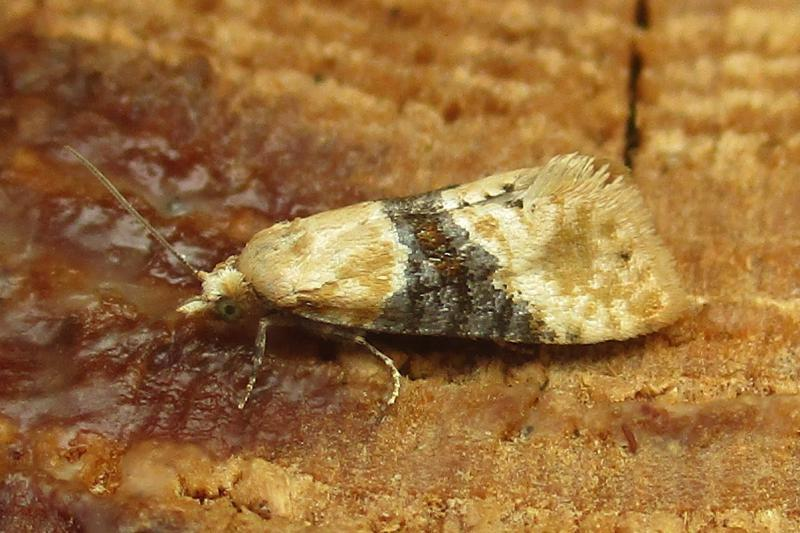Eupoecilia Ambiguella: (60, 137, 700, 412)
